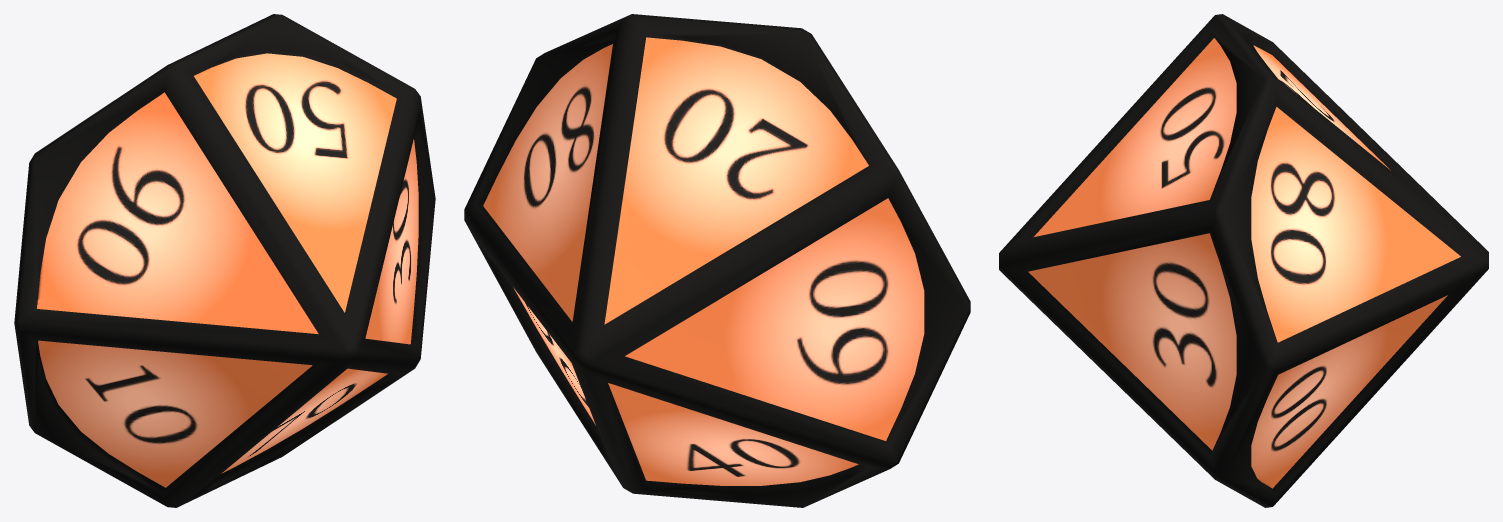
Rendered from crucible_d100.glb.
3 renders of one model, left to right at view 1: azimuth 30°, elevation 25°; view 2: azimuth 150°, elevation 25°; view 3: azimuth 270°, elevation 25°, orthographic. The views are drawn at different scales.
Visible parts, largest first — view 1: Mesh_0; view 2: Mesh_0; view 3: Mesh_0.
Boxes of the visible parts, box(x1,y1,x2,y2) form: Mesh_0: box(14, 14, 435, 507); Mesh_0: box(464, 14, 970, 507); Mesh_0: box(999, 14, 1488, 507).
Size of the model in its own units: 175 by 166 by 172.
1 material, 1 textured.
